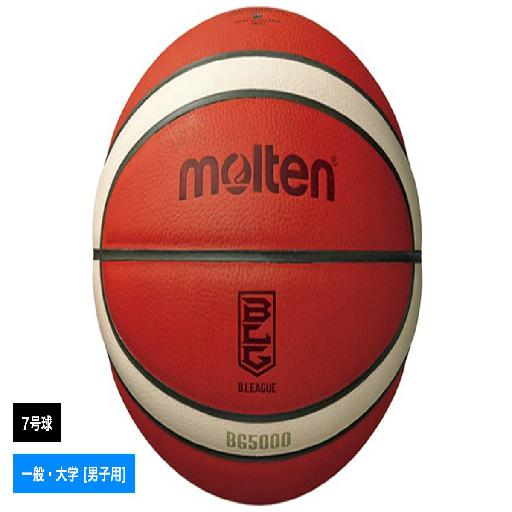ball: (94, 6, 422, 504)
